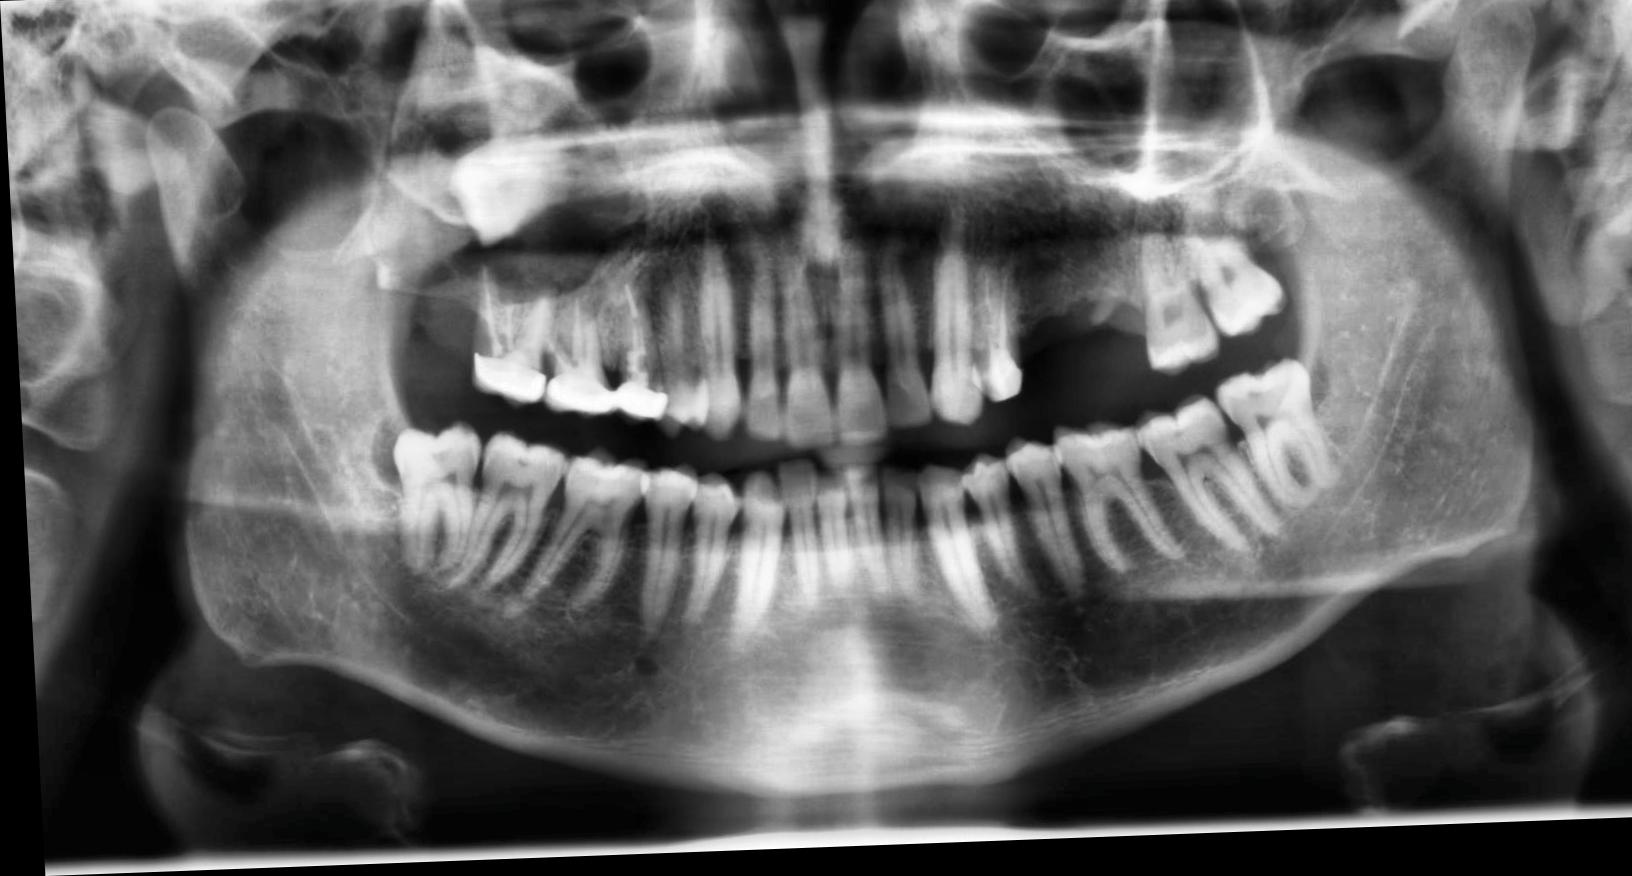keratokist: (357, 80, 651, 313)
